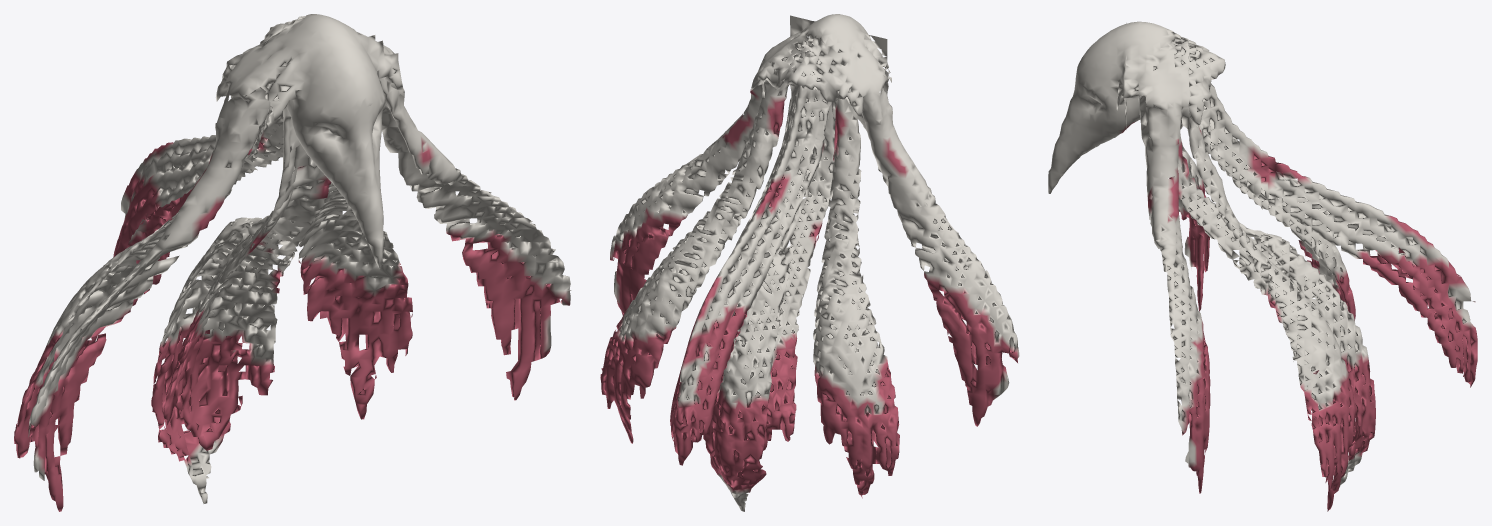
File: mon3d.glb
The picture shows the model from 3 angles, left to right: view 1: azimuth 30°, elevation 25°; view 2: azimuth 150°, elevation 25°; view 3: azimuth 270°, elevation 25°; orthographic projection. The views are drawn at different scales.
Bounding box in the file's own units: 1.94 × 1.95 × 1.62.
